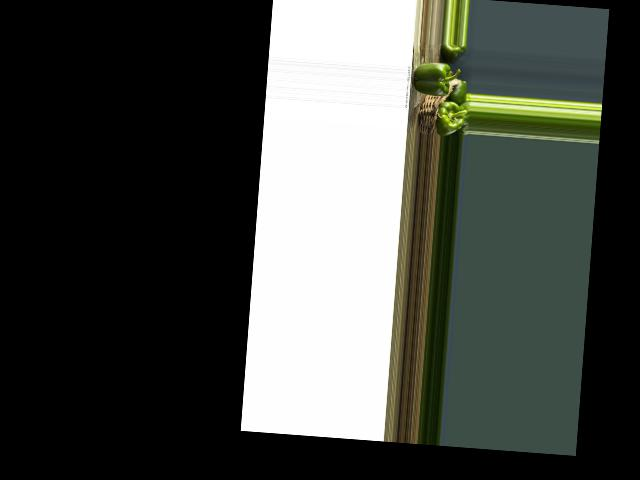bell_pepper: (444, 43, 465, 58)
